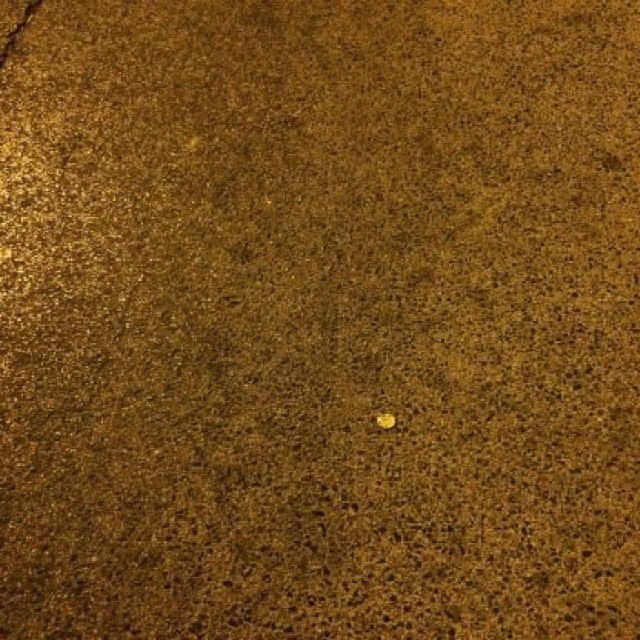metal: (378, 414, 396, 429)
